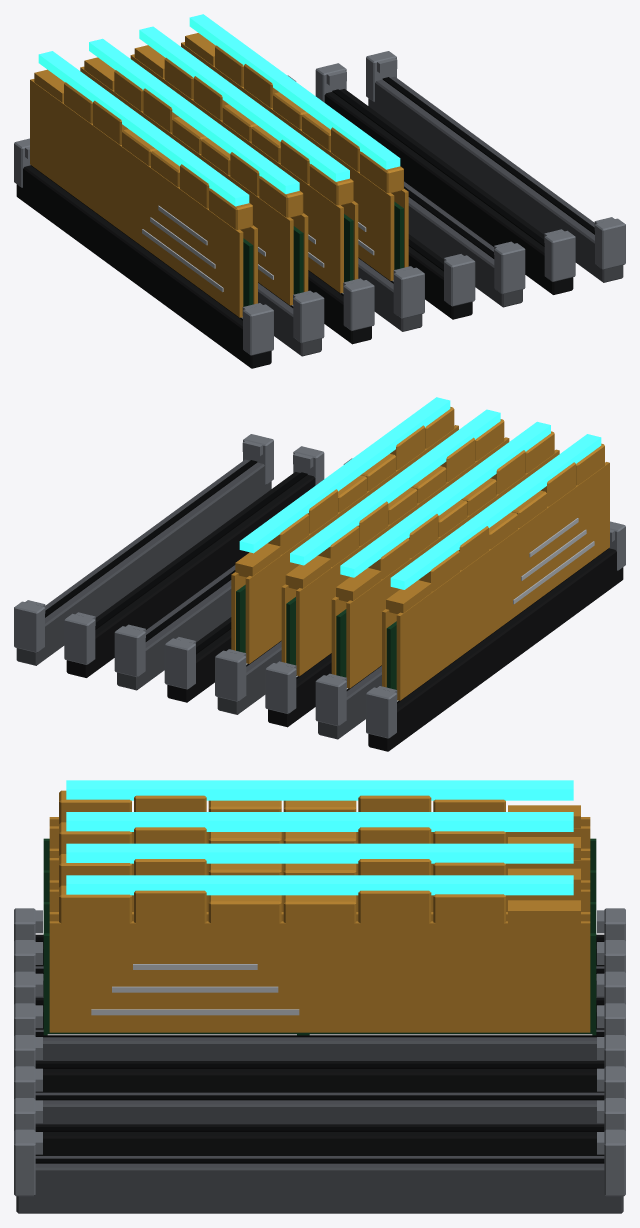
Rendered from hwm_ram_ddr3_12gb.glb.
The picture shows the model from 3 angles, top to bottom: view 1: azimuth 30°, elevation 25°; view 2: azimuth 150°, elevation 25°; view 3: azimuth 270°, elevation 25°; orthographic projection. The views are drawn at different scales.
Visible parts, largest first — view 1: Slots, Stick_0, Stick_2, Stick_1, Stick_3, Latch_1_1, Latch_5_1, Latch_6_1, Latch_3_1, Latch_2_1, Latch_4_1, Latch_0_1 (+4 smaller); view 2: Slots, Stick_0, Stick_2, Stick_3, Stick_1, Latch_1_0, Latch_5_0, Latch_6_0, Latch_3_0, Latch_2_0, Latch_4_0, Latch_0_0 (+4 smaller); view 3: Slots, Stick_3, Stick_2, Stick_1, Stick_0, Latch_7_0, Latch_7_1, Latch_2_0, Latch_2_1, Latch_0_0, Latch_0_1, Latch_3_0 (+9 smaller).
Boxes of the visible parts, bbox=[...] form: Slots: bbox=[16, 76, 623, 368]; Stick_0: bbox=[30, 51, 257, 318]; Stick_2: bbox=[130, 26, 358, 293]; Stick_1: bbox=[80, 38, 308, 306]; Stick_3: bbox=[181, 14, 408, 281]; Latch_1_1: bbox=[293, 290, 324, 343]; Latch_5_1: bbox=[494, 241, 525, 294]; Latch_6_1: bbox=[544, 229, 575, 281]; Latch_3_1: bbox=[393, 266, 424, 318]; Latch_2_1: bbox=[343, 278, 374, 330]; Latch_4_1: bbox=[444, 254, 475, 306]; Latch_0_1: bbox=[242, 303, 273, 355]; Slots: bbox=[16, 459, 623, 751]; Stick_0: bbox=[382, 434, 609, 701]; Stick_2: bbox=[281, 409, 509, 676]; Stick_3: bbox=[231, 397, 458, 664]; Stick_1: bbox=[331, 421, 559, 689]; Latch_1_0: bbox=[315, 673, 346, 726]; Latch_5_0: bbox=[114, 624, 145, 677]; Latch_6_0: bbox=[64, 612, 95, 664]; Latch_3_0: bbox=[215, 649, 246, 701]; Latch_2_0: bbox=[265, 661, 296, 713]; Latch_4_0: bbox=[164, 637, 195, 689]; Latch_0_0: bbox=[366, 686, 397, 738]; Slots: bbox=[16, 934, 623, 1213]; Stick_3: bbox=[43, 875, 596, 1035]; Stick_2: bbox=[43, 843, 596, 933]; Stick_1: bbox=[43, 812, 596, 901]; Stick_0: bbox=[43, 780, 596, 870]; Latch_7_0: bbox=[597, 1129, 625, 1196]; Latch_7_1: bbox=[14, 1129, 42, 1196]; Latch_2_0: bbox=[597, 971, 625, 1004]; Latch_2_1: bbox=[14, 971, 42, 1004]; Latch_0_0: bbox=[597, 908, 625, 940]; Latch_0_1: bbox=[14, 908, 42, 940]; Latch_3_0: bbox=[597, 1003, 625, 1035].
Bounding box in the file's own units: 0.1346 × 0.0535 × 0.1472.
